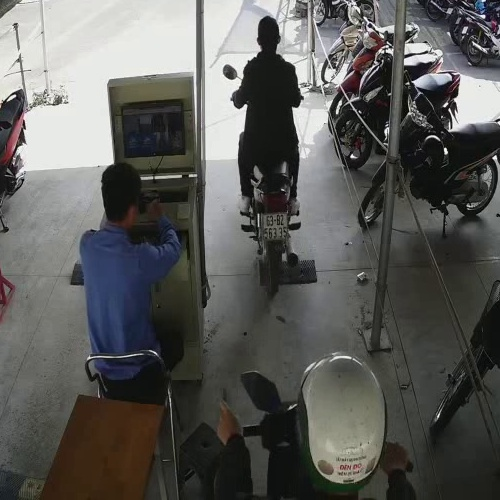number_plate: (258, 213, 290, 243)
